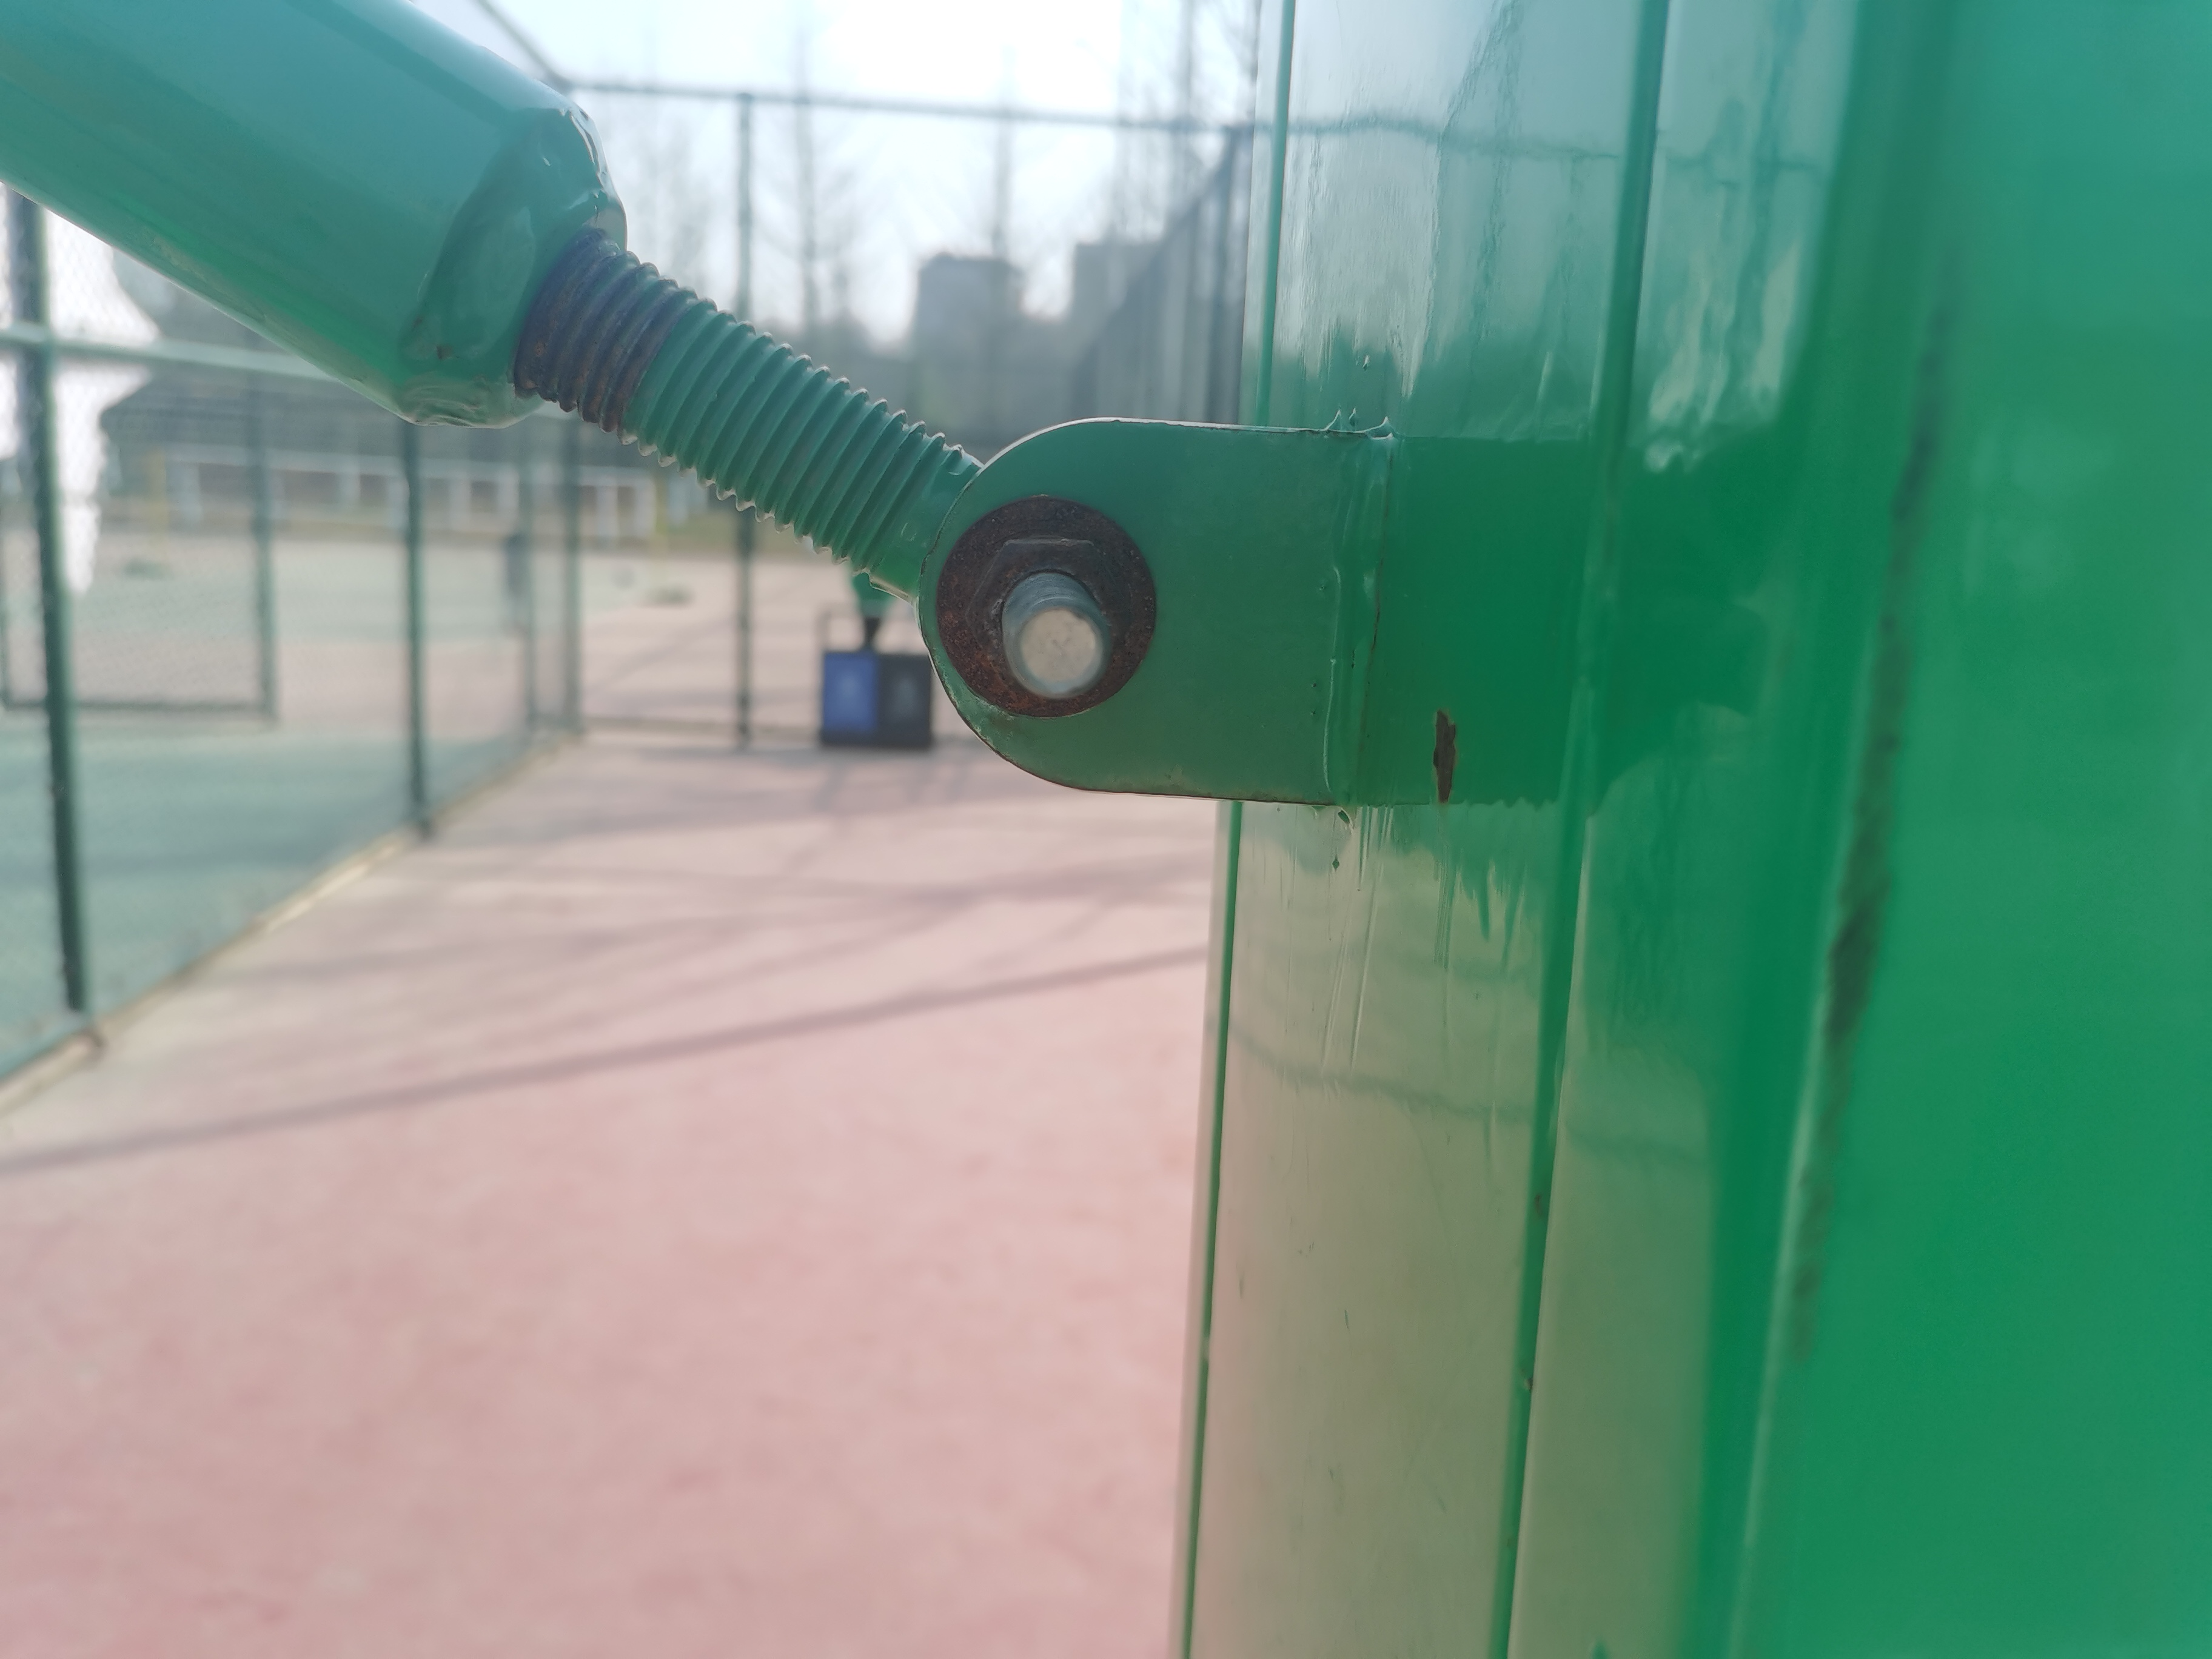bolt_b: (954, 526, 1141, 708)
